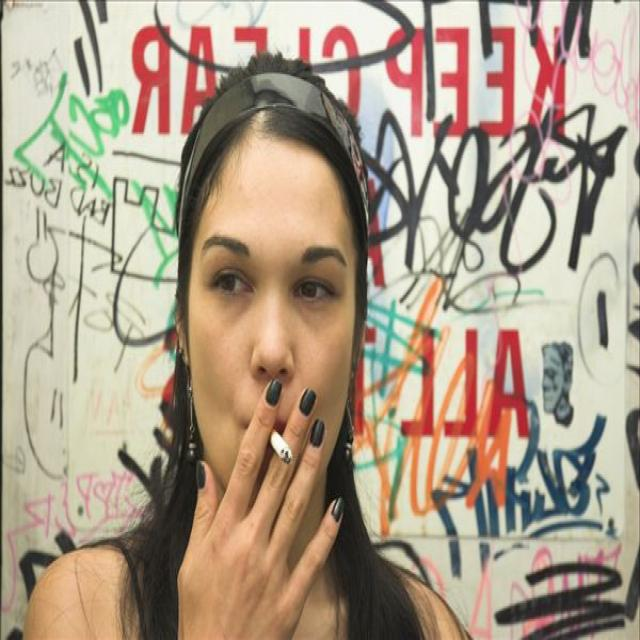smoking: (262, 421, 293, 467)
